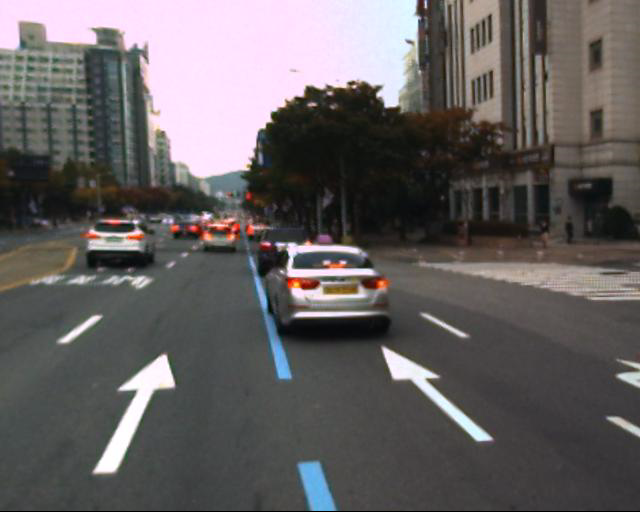person: (533, 207, 559, 254), (561, 200, 585, 250)
